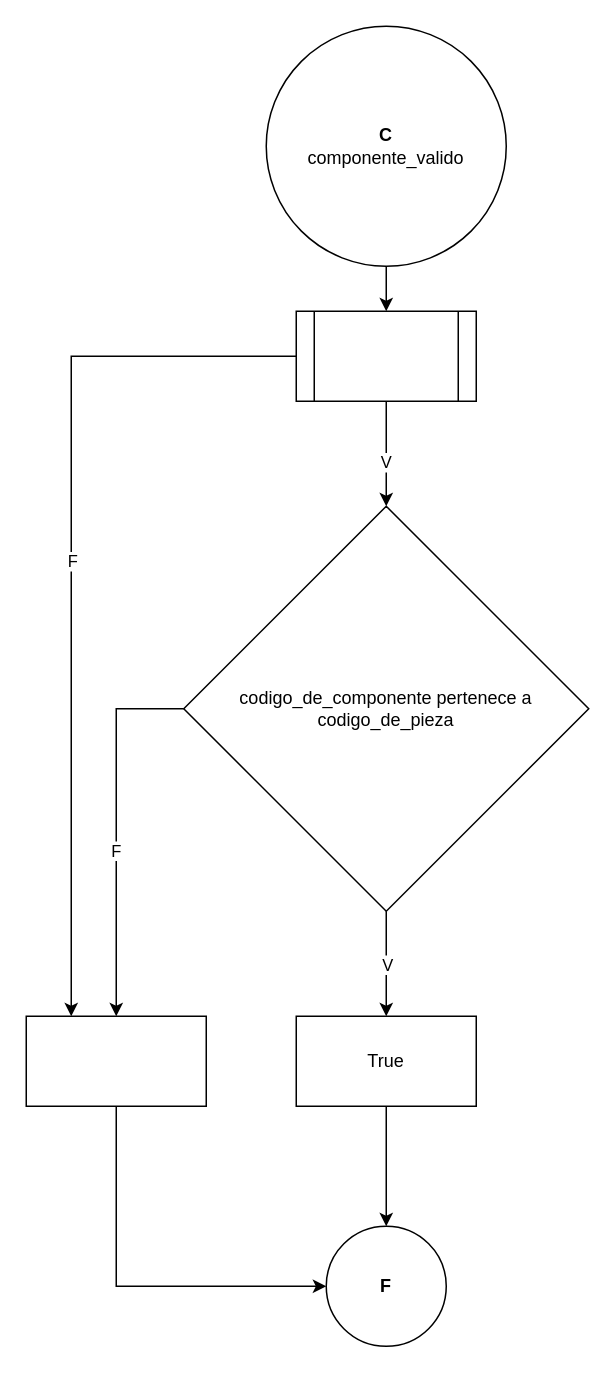
Some shapes in this 615 by 1373 pixel diagram are drawn without their labels. The shapes that lost their labels are listed below. From the top down, each one's centre as x and y in pixels, then its label:
At point (385, 355): "codigo_valido".
At point (115, 1060): "False".
